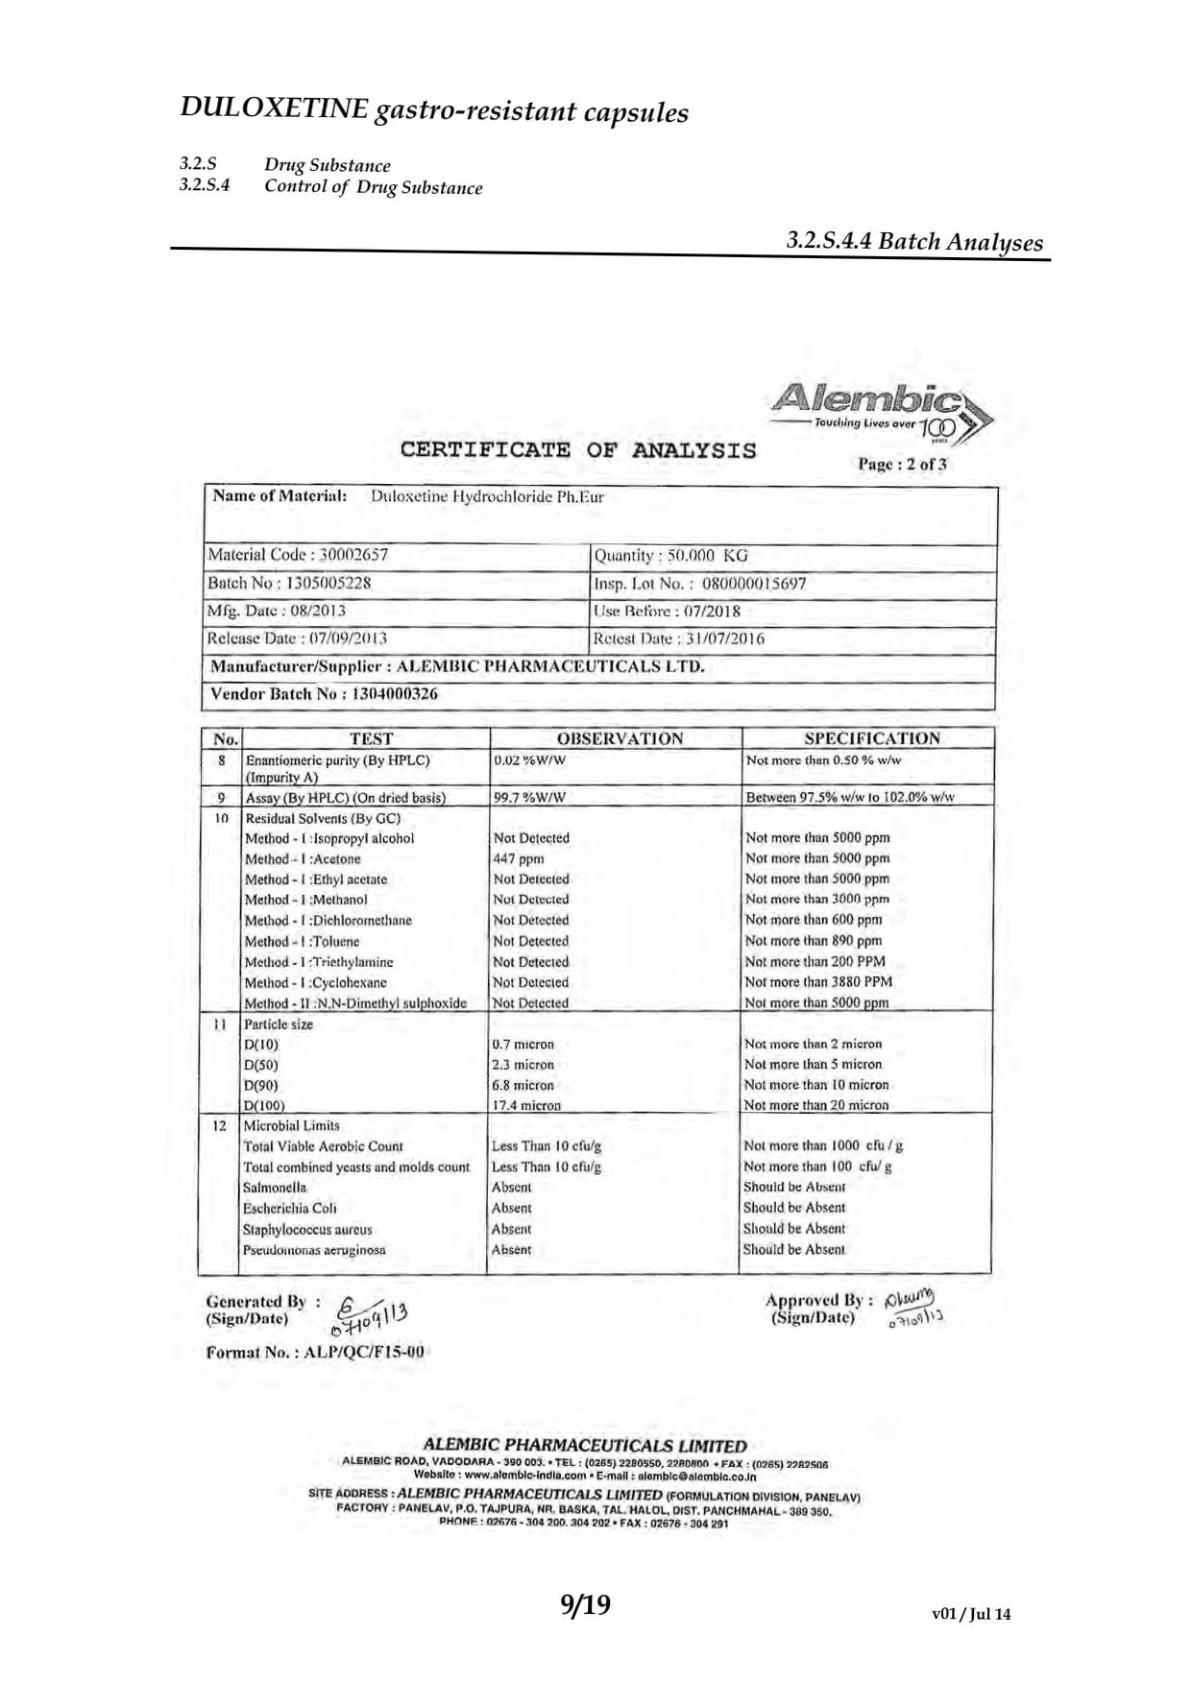full_lined: (195, 725, 997, 1277)
merged_cells: (200, 482, 1001, 710)
